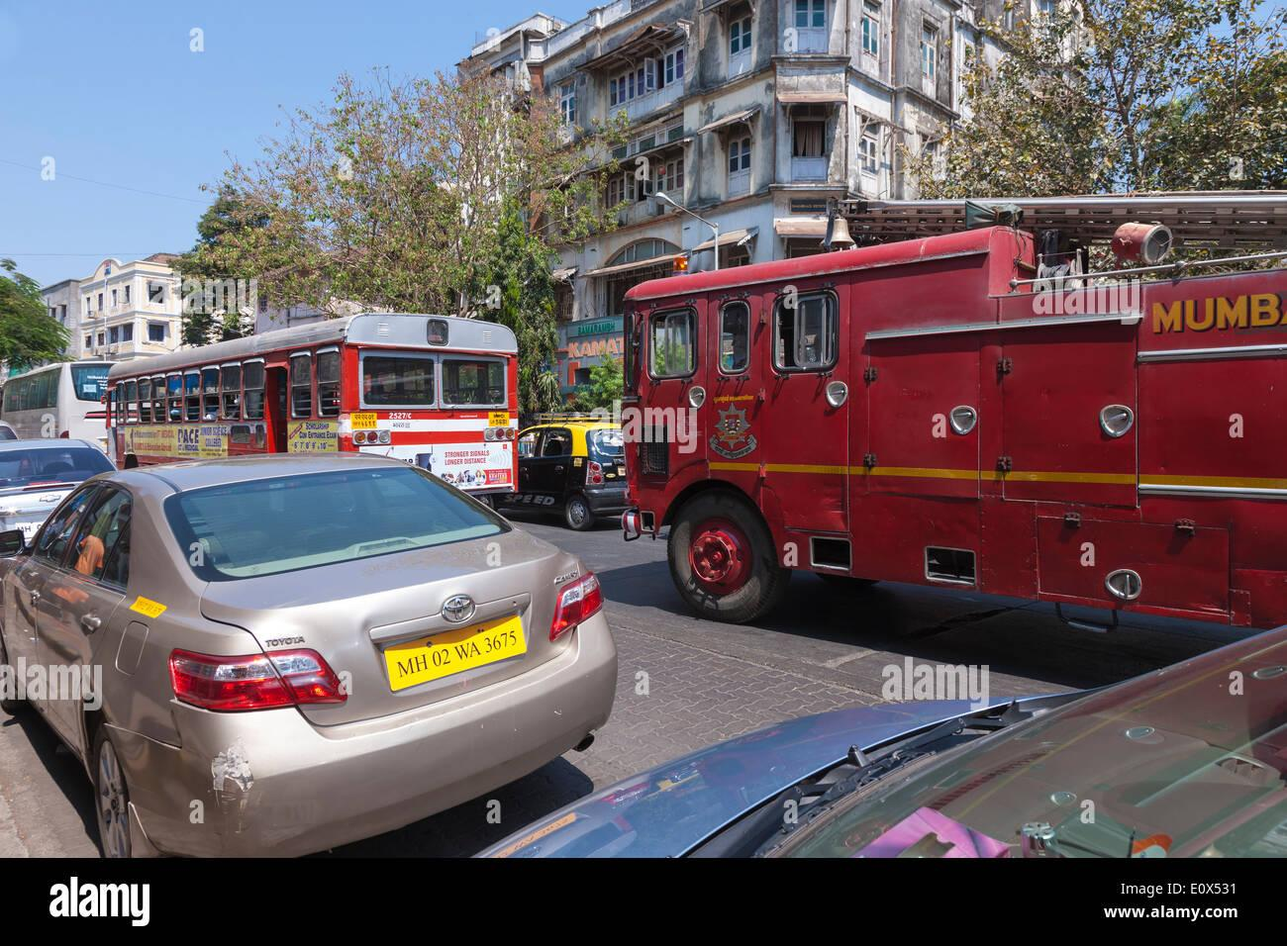Fire-engine: (602, 192, 1287, 649), (621, 192, 1286, 630), (824, 188, 1287, 299), (671, 253, 691, 278)
